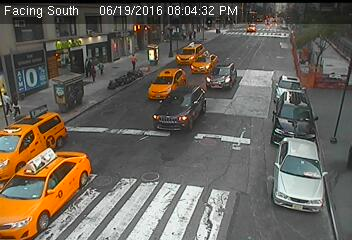neg: (273, 93, 308, 139), (45, 87, 77, 129), (252, 162, 282, 203), (156, 98, 182, 133), (202, 112, 227, 146), (108, 62, 132, 94), (51, 148, 73, 176), (277, 44, 297, 72), (228, 46, 248, 73), (180, 178, 199, 203), (163, 41, 182, 66), (125, 152, 143, 176)
